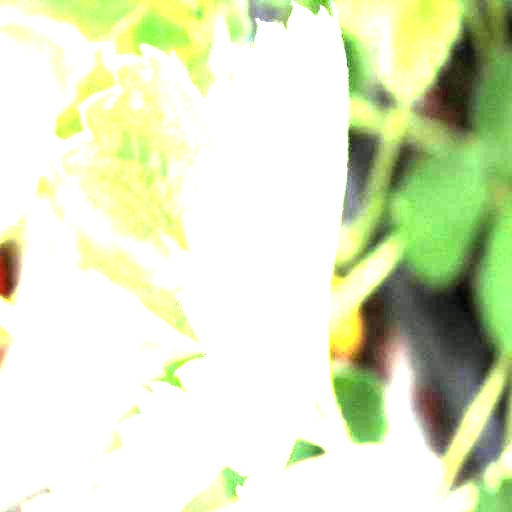Powdery Mildew Leaf: (176, 0, 351, 502), (29, 44, 218, 352), (79, 352, 238, 511)
